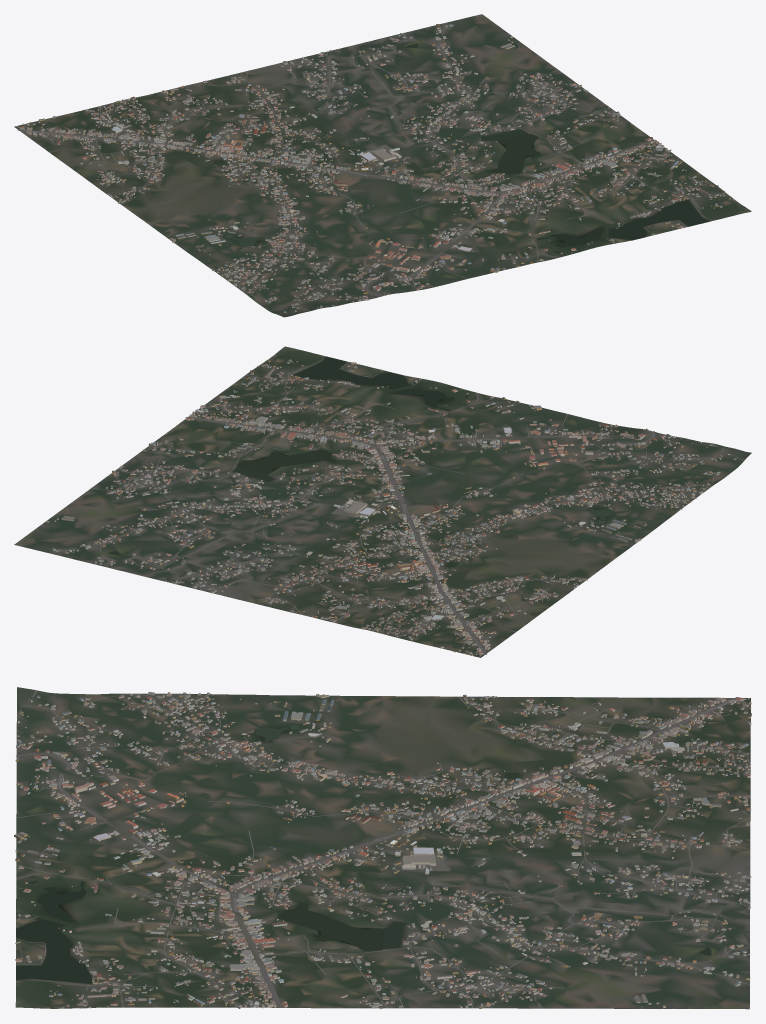
The picture shows the model from 3 angles, top to bottom: view 1: azimuth 30°, elevation 25°; view 2: azimuth 150°, elevation 25°; view 3: azimuth 270°, elevation 25°; orthographic projection. The views are drawn at different scales.
Parts seen in each view (by area): view 1: ground, buildings, roads, water; view 2: ground, buildings, roads, water; view 3: ground, buildings, roads, water.
Part boxes in pixels (bbox=[...]): ground: bbox=[14, 14, 751, 317]; buildings: bbox=[16, 24, 733, 312]; roads: bbox=[18, 23, 729, 314]; water: bbox=[50, 43, 709, 253]; ground: bbox=[14, 346, 751, 657]; buildings: bbox=[46, 359, 736, 656]; roads: bbox=[51, 362, 744, 654]; water: bbox=[108, 356, 612, 637]; ground: bbox=[15, 687, 750, 1009]; buildings: bbox=[14, 691, 751, 1009]; roads: bbox=[16, 690, 750, 1008]; water: bbox=[16, 705, 710, 983].
Size of the model in its own units: 2816 by 53.86 by 2819.
